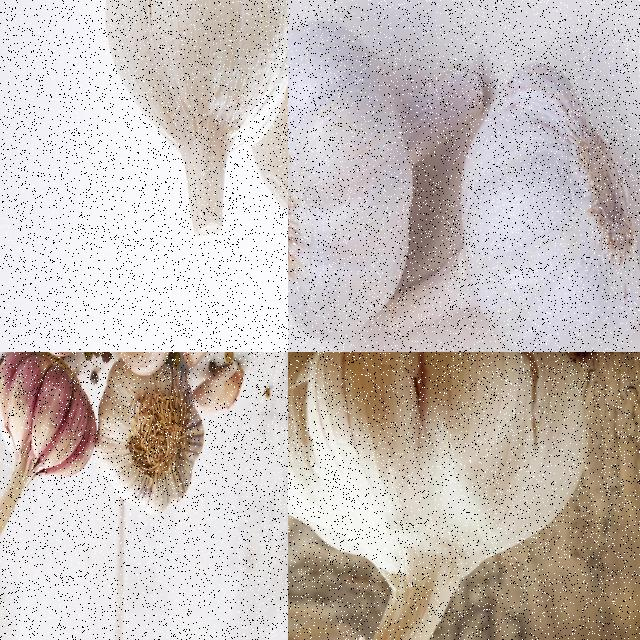garlic: (288, 352, 597, 639), (383, 61, 639, 351), (288, 17, 485, 347), (103, 0, 287, 241), (0, 352, 105, 542), (95, 352, 205, 516), (248, 30, 287, 331), (187, 358, 244, 418), (107, 352, 235, 376)
